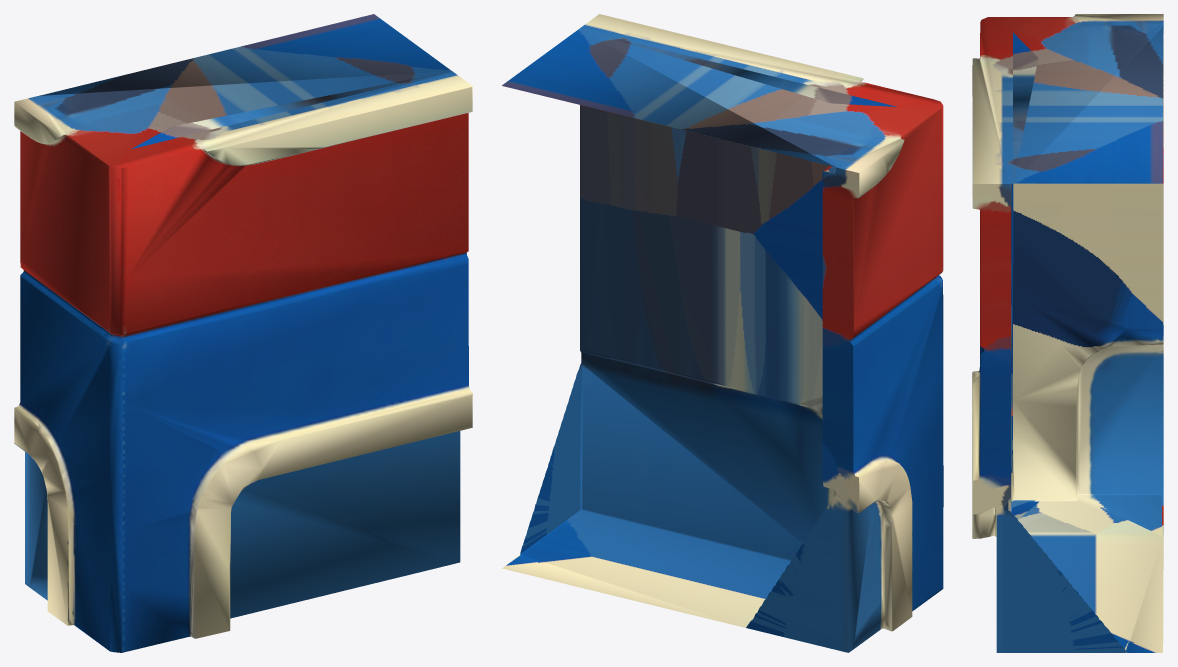
Rendered from 5-upper-walls-front-left.fbx.
The picture shows the model from 3 angles, left to right: view 1: azimuth 30°, elevation 25°; view 2: azimuth 150°, elevation 25°; view 3: azimuth 270°, elevation 25°; orthographic projection. The views are drawn at different scales.
Parts seen in each view (by area): view 1: upper-walls-front-left; view 2: upper-walls-front-left; view 3: upper-walls-front-left.
Part boxes in pixels (x1=…): upper-walls-front-left: x1=14, y1=14, x2=472, y2=652; upper-walls-front-left: x1=502, y1=14, x2=943, y2=652; upper-walls-front-left: x1=972, y1=14, x2=1163, y2=652.
Size of the model in its own units: 4683 by 6025 by 2226.
1 material, 1 textured.
